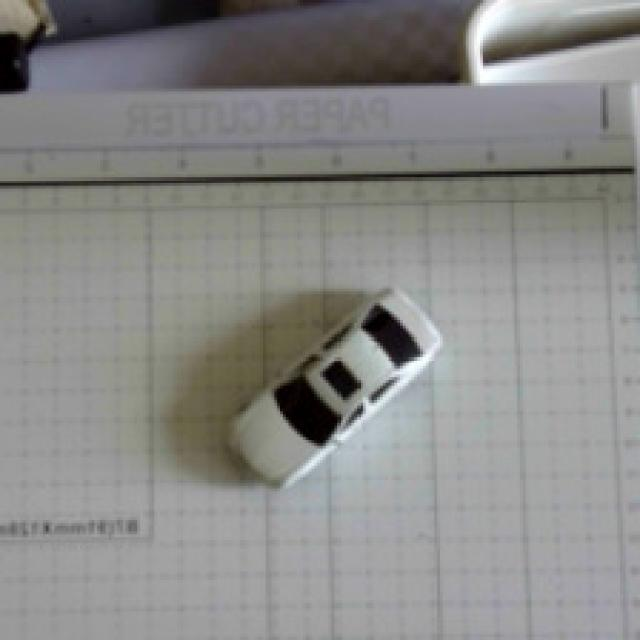Grey Car: (176, 272, 462, 509)
